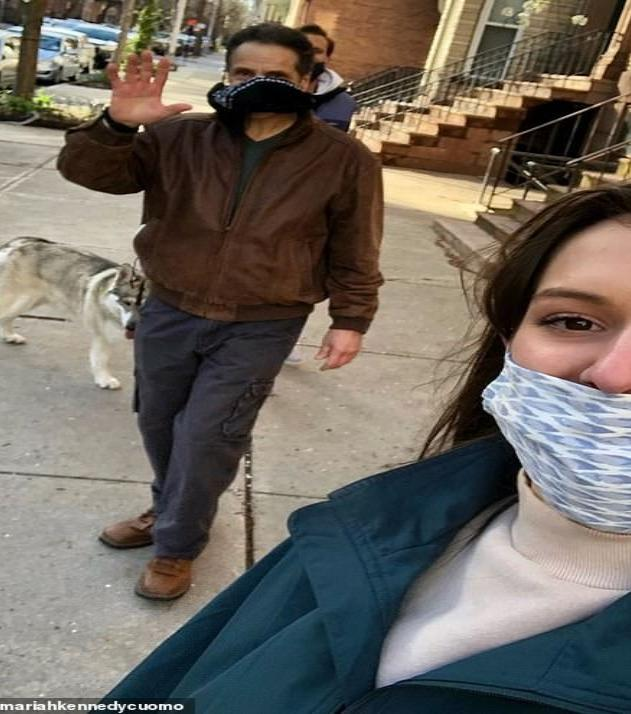mask_weared_incorrect: (477, 177, 630, 532)
